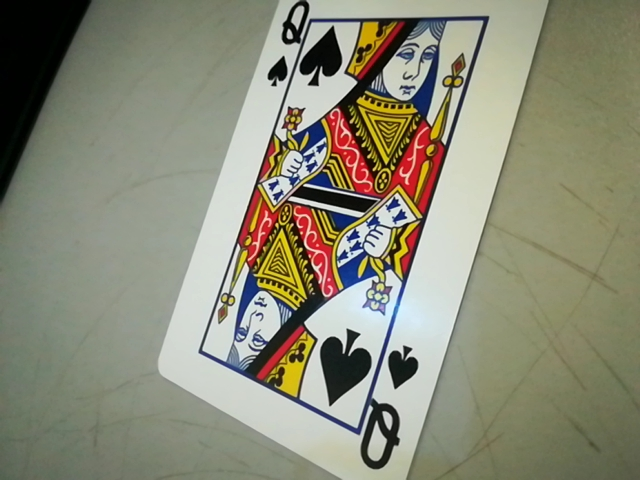ht q: (359, 334, 422, 480), (264, 0, 308, 85)
